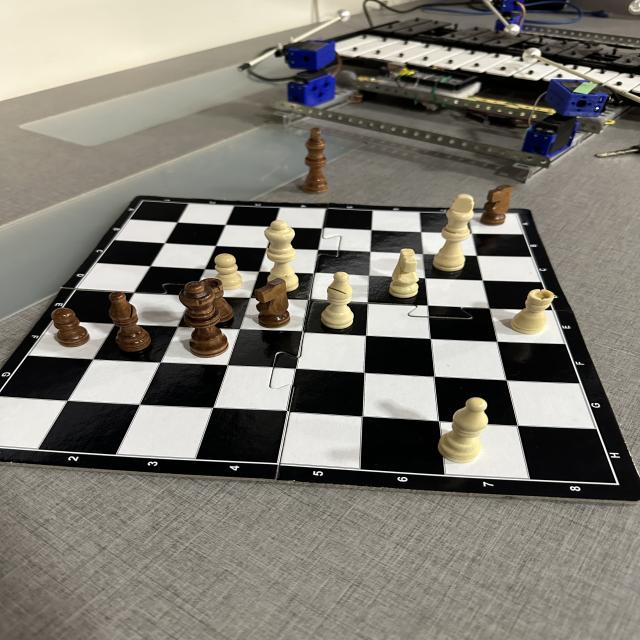Black-Bishop: (108, 291, 152, 352)
Black-King: (302, 127, 329, 194)
Black-Knight: (254, 278, 291, 328), (480, 184, 514, 226)
Black-Pawn: (51, 308, 91, 348)
Black-Queen: (179, 281, 229, 358)
Black-Rook: (200, 278, 234, 323)
White-Bishop: (437, 397, 489, 463), (321, 272, 354, 329)
White-King: (432, 194, 474, 272)
White-Knight: (389, 248, 419, 298)
White-Pawn: (214, 253, 243, 290)
White-Queen: (264, 220, 300, 292)
White-Rook: (510, 289, 554, 334)
